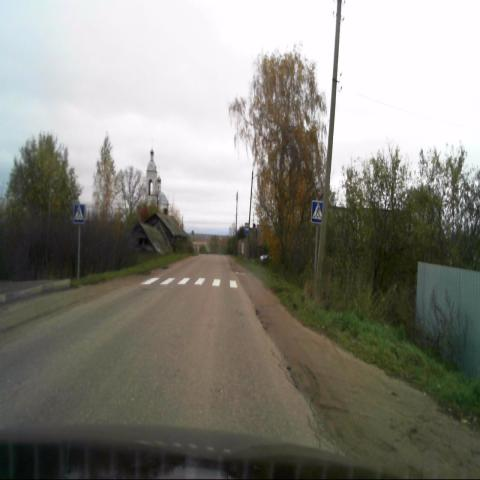5_19_1: (311, 200, 323, 223), (73, 204, 84, 223)
